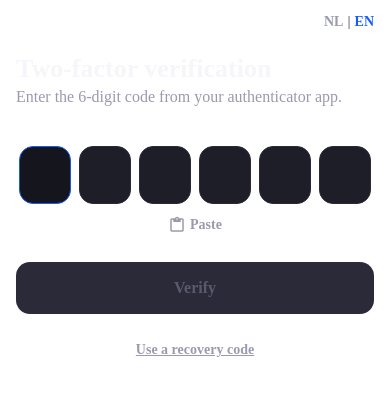
Scenario: TwoFactorScreen (recovery-code fallback) › shows a recovery-specific error for an invalid code
Click the button "Use a recovery code": x=195, y=350 [136, 338, 254, 362]
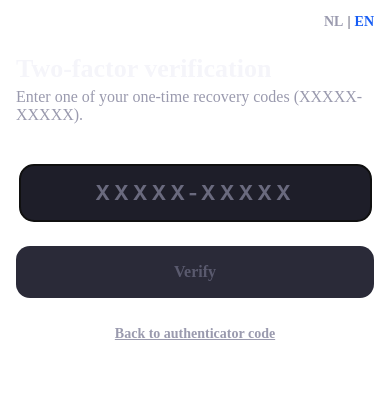
In the field with placeholder "XXXXX-XXXXX": x=195, y=193 [18, 164, 372, 222], type "ZZZZZ-ZZZZZ"
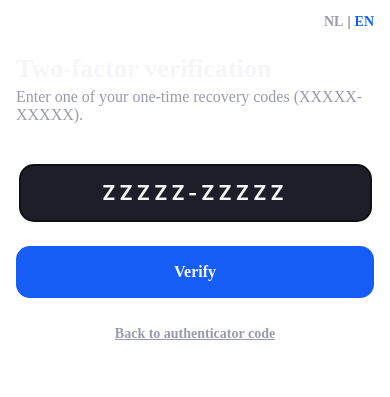
Click the button "Verify": x=195, y=272 [16, 246, 374, 298]
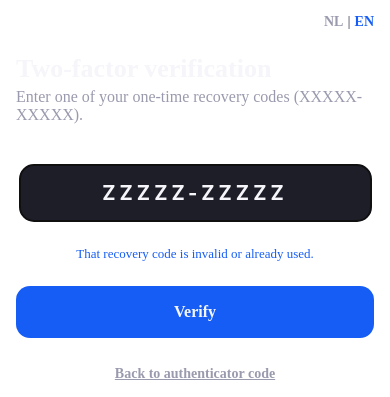
Now the text "That recovery code is invalid or already used." is shown, box [76, 246, 314, 261]
